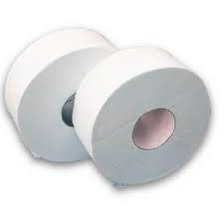tissue: (64, 37, 217, 191), (0, 20, 127, 171)
